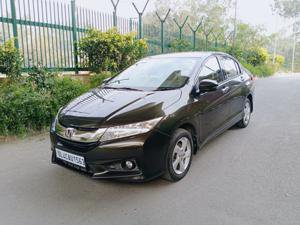car: (49, 51, 263, 185)
